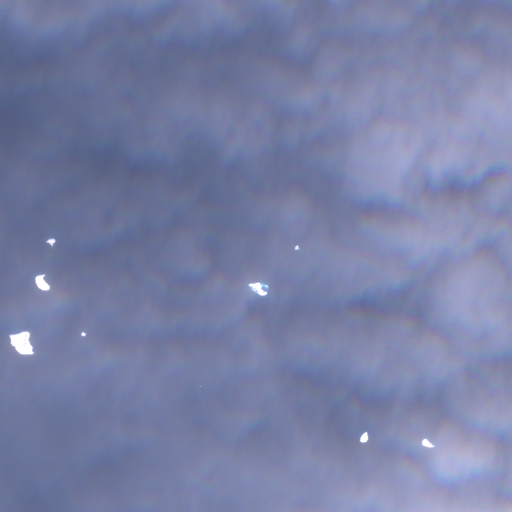Iceberg: (9, 331, 34, 354), (248, 282, 268, 295), (35, 274, 49, 290), (422, 438, 434, 447), (360, 431, 368, 442), (46, 238, 55, 246), (81, 331, 86, 336), (294, 245, 299, 249), (199, 385, 201, 387)
